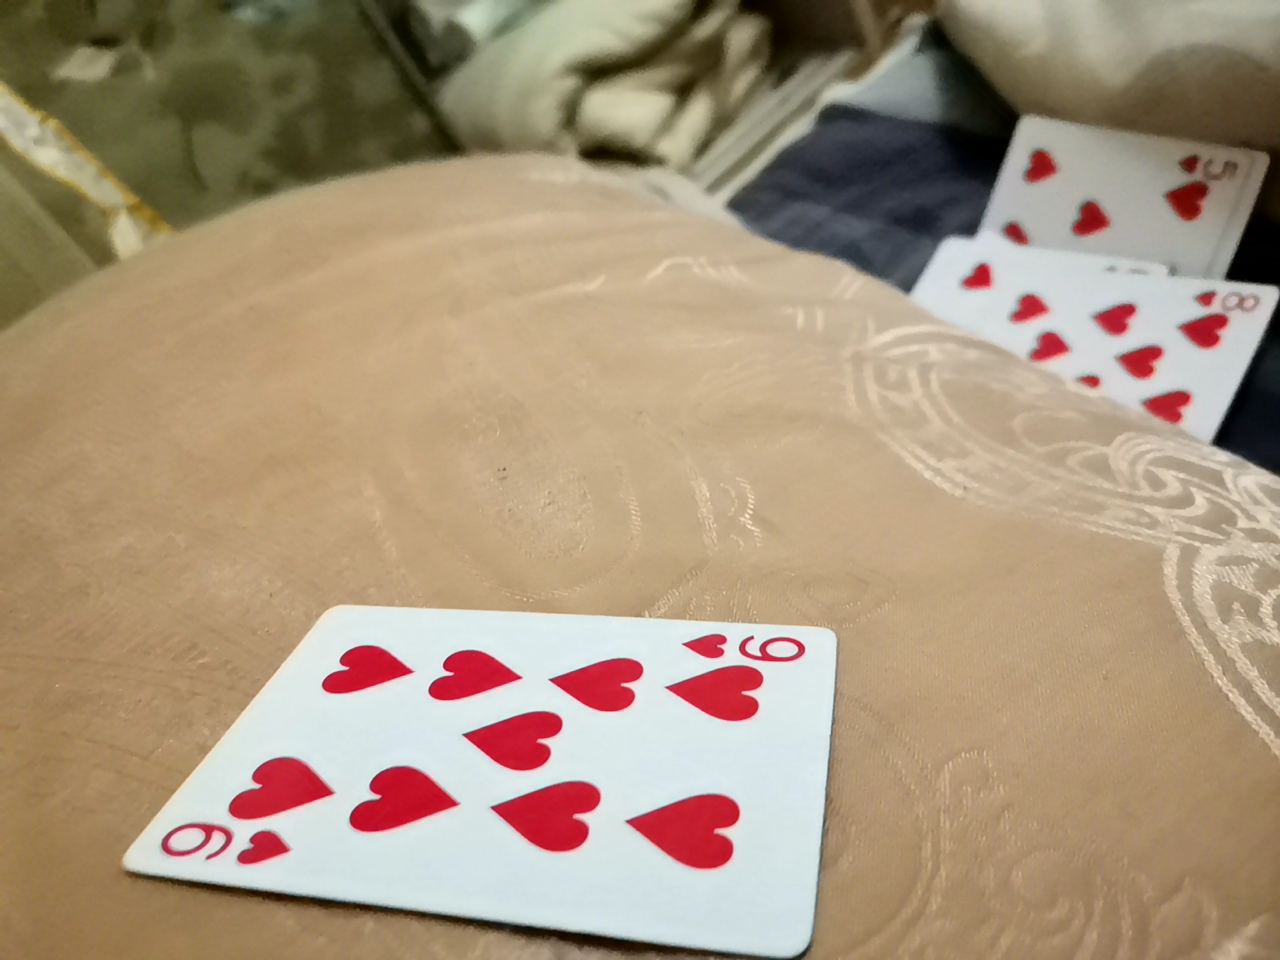hx 9: (143, 598, 822, 954)
